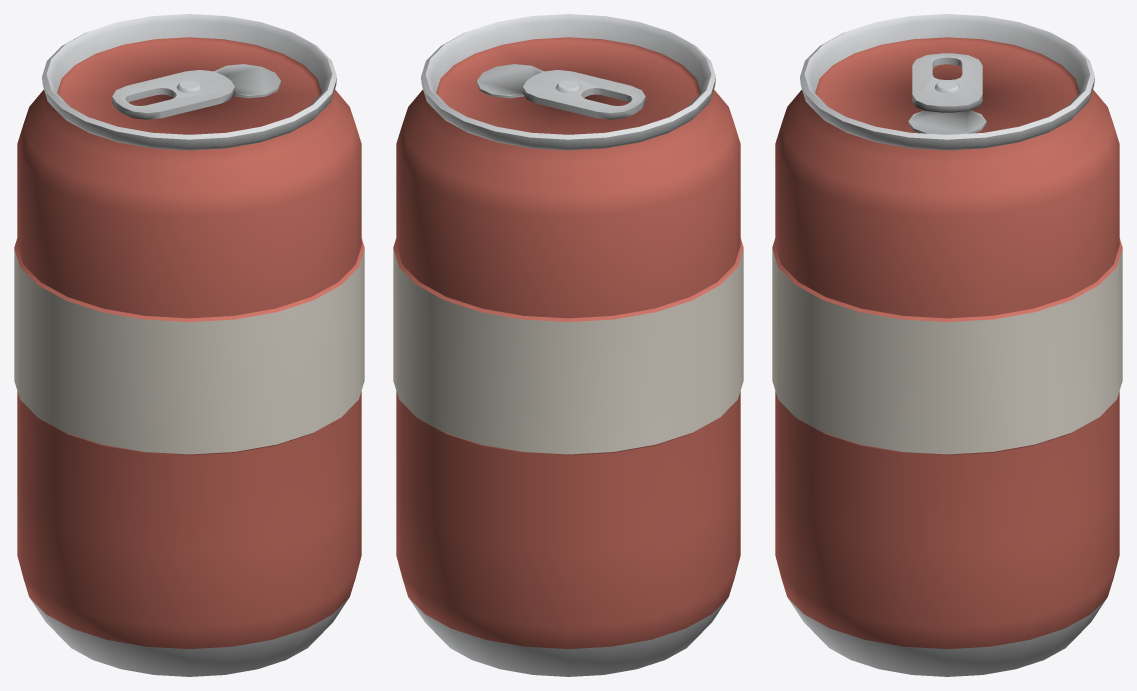
The model's file is drink_soda.glb.
3 views of the same model, side by side, from view 1: azimuth 30°, elevation 25°; view 2: azimuth 150°, elevation 25°; view 3: azimuth 270°, elevation 25° (orthographic).
Parts seen in each view (by area): view 1: PART; view 2: PART; view 3: PART.
Boxes of the visible parts, bbox=[...] form: PART: bbox=[14, 14, 364, 676]; PART: bbox=[393, 14, 743, 676]; PART: bbox=[772, 14, 1122, 676].
Size of the model in its own units: 0.0672 by 0.1152 by 0.0672.
